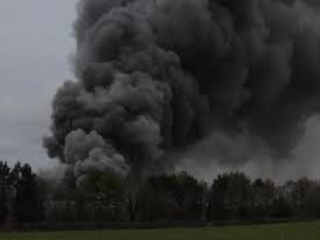smoke: (47, 11, 232, 193)
